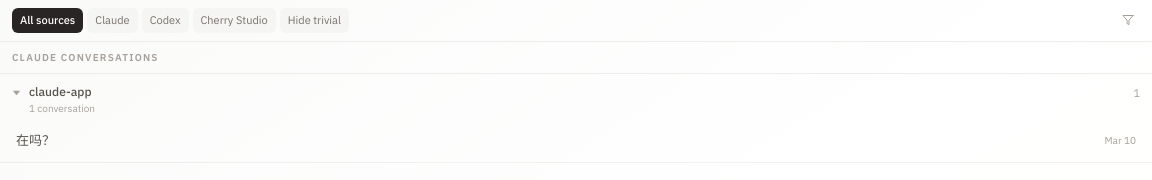
Test: Sidebar › normalizes trailing punctuation before matching (在吗？ is trivial)
The width and height of the screenshot is (1152, 180).
Click the button "Hide trivial" at (314, 20), box [280, 8, 349, 32]
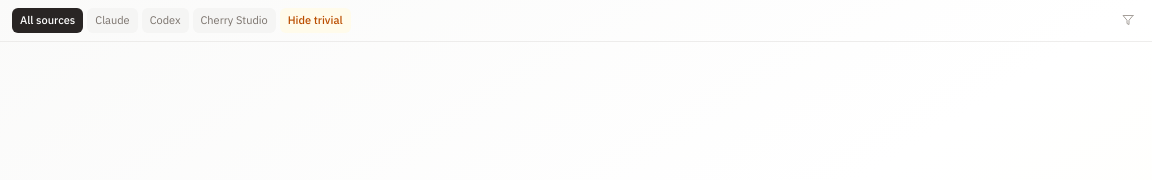
Expected: the text "在吗？" is gone
